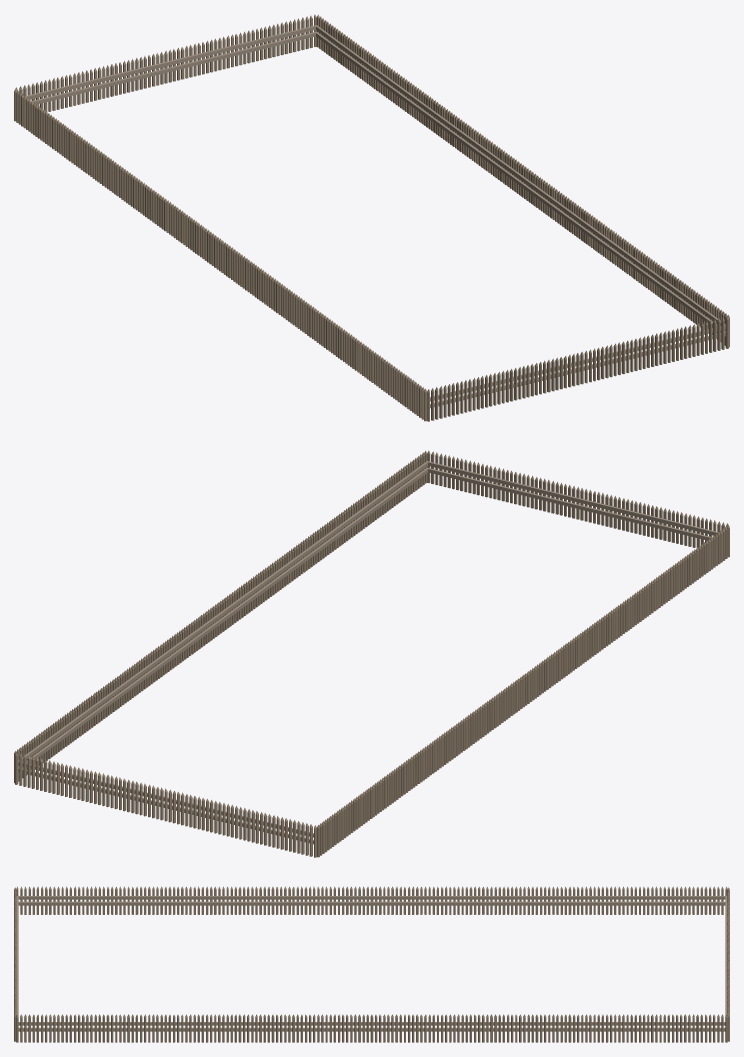
The model's file is first_fort_outer_sutlers_garden__first_fort_1803.glb.
The picture shows the model from 3 angles, top to bottom: view 1: azimuth 30°, elevation 25°; view 2: azimuth 150°, elevation 25°; view 3: azimuth 270°, elevation 25°; orthographic projection. The views are drawn at different scales.
Visible parts, largest first — view 1: first_fort_outer_sutlers_garden__first_fort_1803; view 2: first_fort_outer_sutlers_garden__first_fort_1803; view 3: first_fort_outer_sutlers_garden__first_fort_1803.
Part boxes in pixels (left/top/right/bottom): first_fort_outer_sutlers_garden__first_fort_1803: left=14, top=14, right=729, bottom=421; first_fort_outer_sutlers_garden__first_fort_1803: left=14, top=450, right=729, bottom=857; first_fort_outer_sutlers_garden__first_fort_1803: left=14, top=886, right=729, bottom=1042.
Size of the model in its own units: 14.79 by 1.5 by 34.69.
